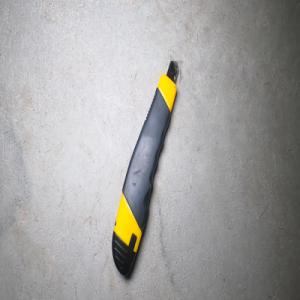Cutter: (111, 59, 179, 277)
